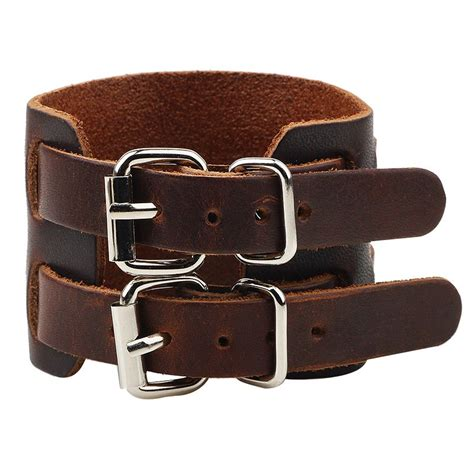cuero: (25, 69, 463, 381)
